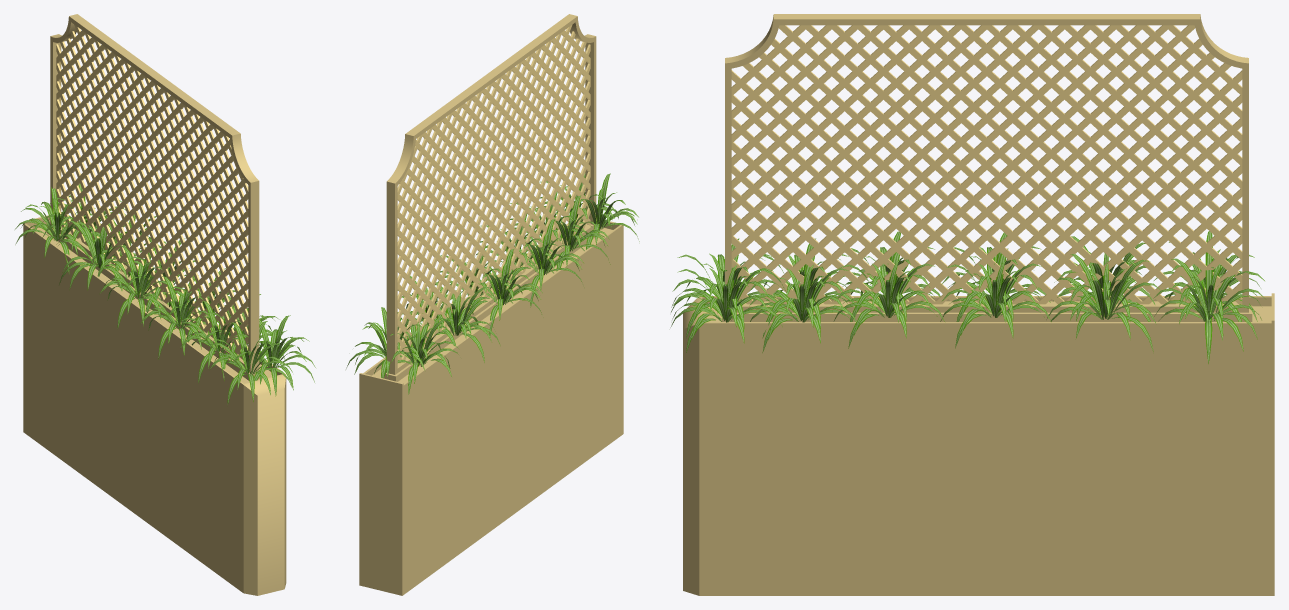
File: mj_wall.dae
3 views of the same model, side by side, from view 1: azimuth 30°, elevation 25°; view 2: azimuth 150°, elevation 25°; view 3: azimuth 270°, elevation 25° (orthographic). The views are drawn at different scales.
Parts seen in each view (by area): view 1: Komponente_21 (×2), Komponente_24 (×42), Komponente_22 (×2); view 2: Komponente_21 (×2), Komponente_24 (×42), Komponente_22 (×2); view 3: Komponente_21 (×2), Komponente_24 (×48), Komponente_22 (×2).
Boxes of the visible parts, x1,y1,x2,y2 form: Komponente_21 (×2): (23,215,286,595); Komponente_24 (×42): (56,24,248,359); Komponente_22 (×2): (50,14,259,372); Komponente_21 (×2): (359,219,623,595); Komponente_24 (×42): (397,24,590,360); Komponente_22 (×2): (386,14,596,374); Komponente_21 (×2): (683,293,1274,595); Komponente_24 (×48): (731,25,1242,304); Komponente_22 (×2): (725,14,1248,312).
Bounding box in the file's own units: 19.72 × 73.74 × 75.98.
